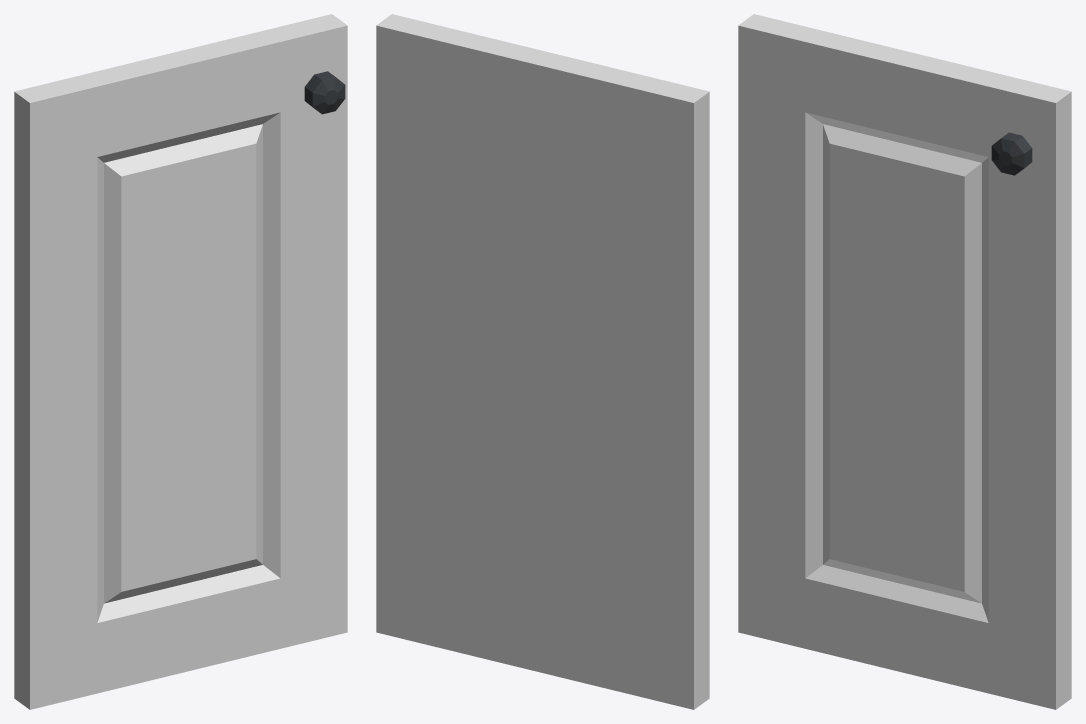
Rendered from Door3_C1_10.fbx.
3 renders of one model, left to right at view 1: azimuth 30°, elevation 25°; view 2: azimuth 150°, elevation 25°; view 3: azimuth 330°, elevation 25°, orthographic.
Visible parts, largest first — view 1: Door3_C1_10; view 2: Door3_C1_10; view 3: Door3_C1_10.
Boxes of the visible parts, <box> form: Door3_C1_10: <box>14,14,347,709</box>; Door3_C1_10: <box>376,14,709,709</box>; Door3_C1_10: <box>738,14,1071,709</box>.
Bounding box in the file's own units: 29 × 52.92 × 5.19.
